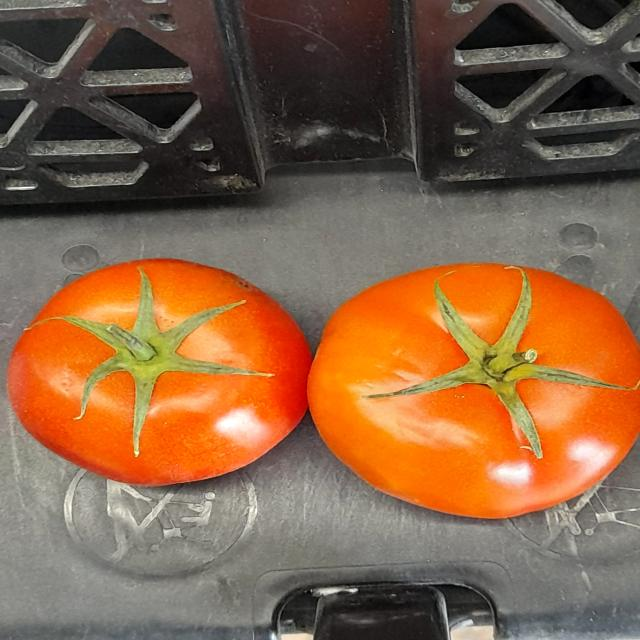tomato: (297, 254, 640, 529), (1, 251, 316, 500)
